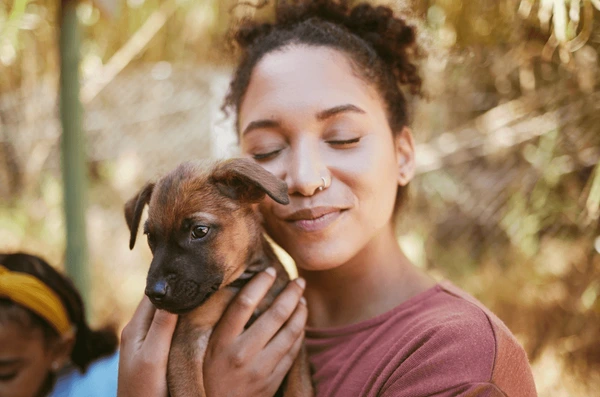person: (235, 25, 403, 272)
